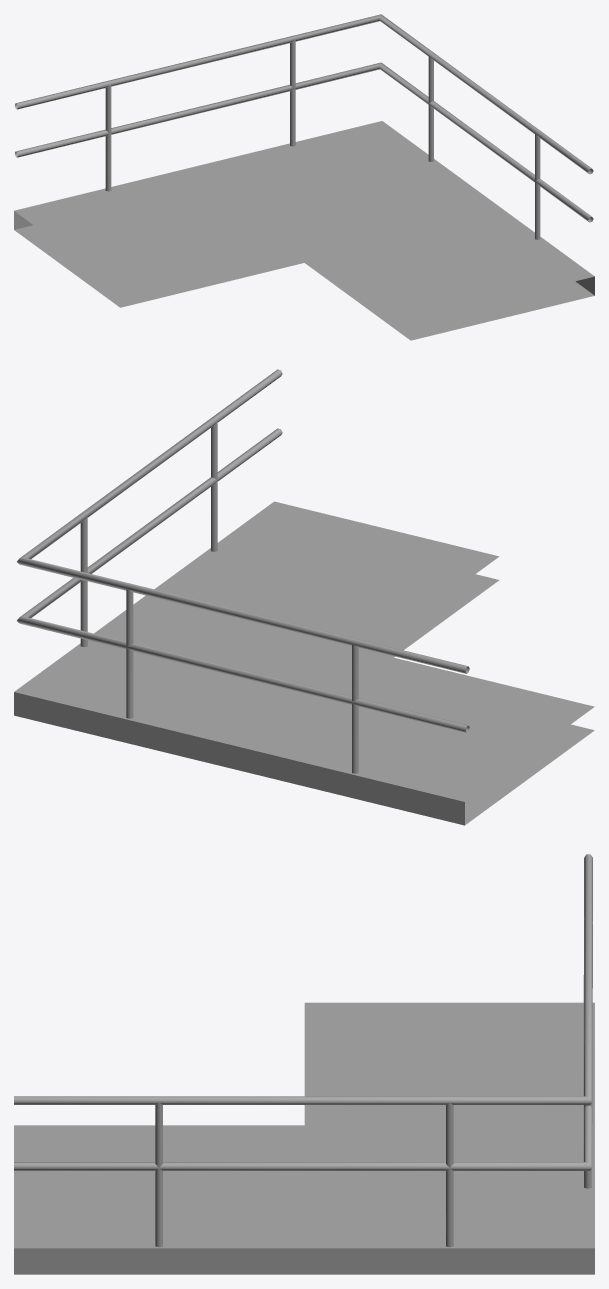
The model's file is SM_Railing_600_400.FBX.
3 views of the same model, one above another, from view 1: azimuth 30°, elevation 25°; view 2: azimuth 150°, elevation 25°; view 3: azimuth 270°, elevation 25° (orthographic). The views are drawn at different scales.
Visible parts, largest first — view 1: SM_Railing_600_400; view 2: SM_Railing_600_400; view 3: SM_Railing_600_400.
Part boxes in pixels (bbox=[...]): SM_Railing_600_400: bbox=[14, 14, 594, 340]; SM_Railing_600_400: bbox=[14, 369, 594, 825]; SM_Railing_600_400: bbox=[14, 854, 594, 1274].
Size of the model in its own units: 400 by 400 by 133.
